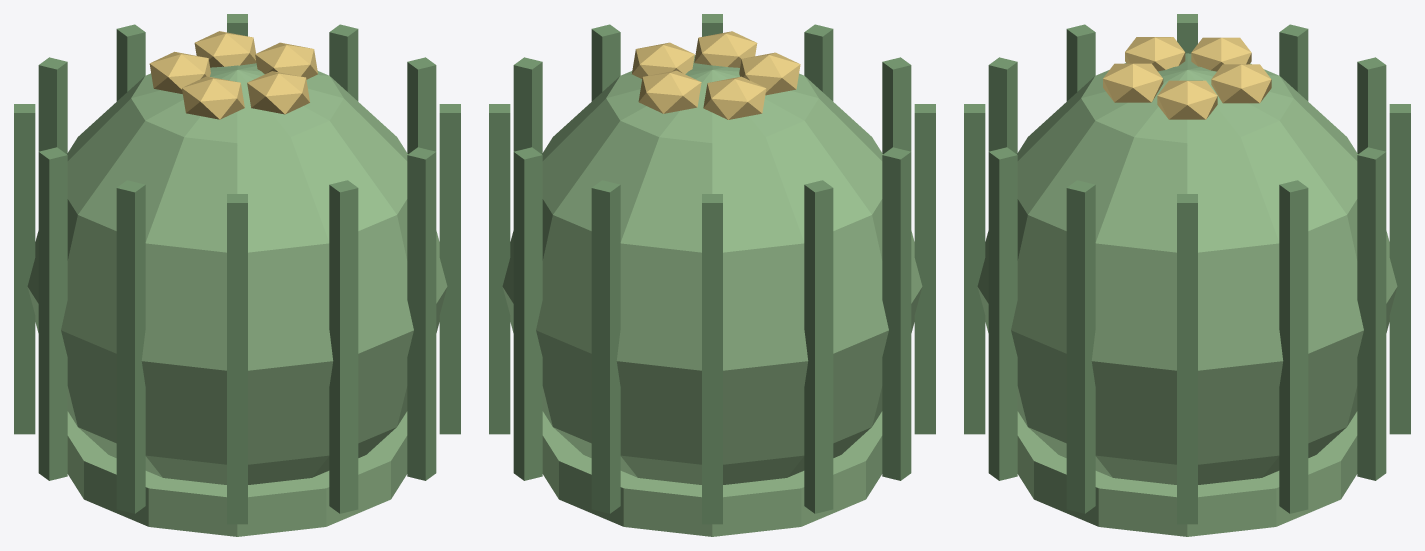
The model's file is SM_Cactus_Barrel.glb.
3 renders of one model, left to right at view 1: azimuth 30°, elevation 25°; view 2: azimuth 150°, elevation 25°; view 3: azimuth 270°, elevation 25°, orthographic.
Parts seen in each view (by area): view 1: SM_Cactus_Barrel; view 2: SM_Cactus_Barrel; view 3: SM_Cactus_Barrel.
Part boxes in pixels (left/top/right/bottom): SM_Cactus_Barrel: left=14, top=14, right=460, bottom=536; SM_Cactus_Barrel: left=489, top=14, right=935, bottom=536; SM_Cactus_Barrel: left=964, top=14, right=1410, bottom=536.
Size of the model in its own units: 0.63 by 0.68 by 0.63.
